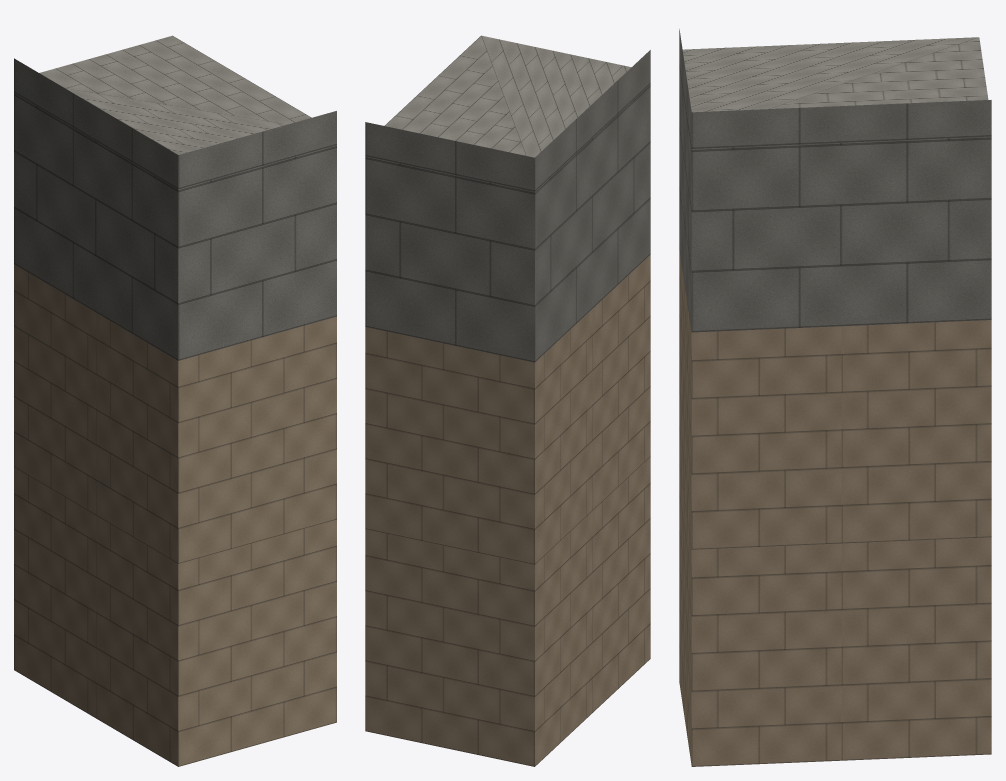
Rendered from bld_c-19_18_514.gltf.
3 views of the same model, side by side, from view 1: azimuth 30°, elevation 25°; view 2: azimuth 150°, elevation 25°; view 3: azimuth 270°, elevation 25° (orthographic). The views are drawn at different scales.
Parts seen in each view (by area): view 1: bld_c-19_18_514; view 2: bld_c-19_18_514; view 3: bld_c-19_18_514.
Part boxes in pixels (box(x1,y1,x2,y2)): bld_c-19_18_514: box(14, 35, 336, 766); bld_c-19_18_514: box(365, 35, 650, 766); bld_c-19_18_514: box(679, 29, 991, 766).
Bounding box in the file's own units: 2.18 × 6.78 × 2.93.
Materials: 4 (4 with a texture image).
